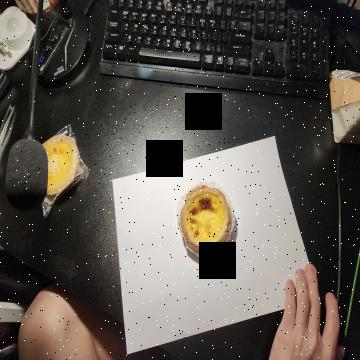EggTart: (180, 183, 232, 254)
